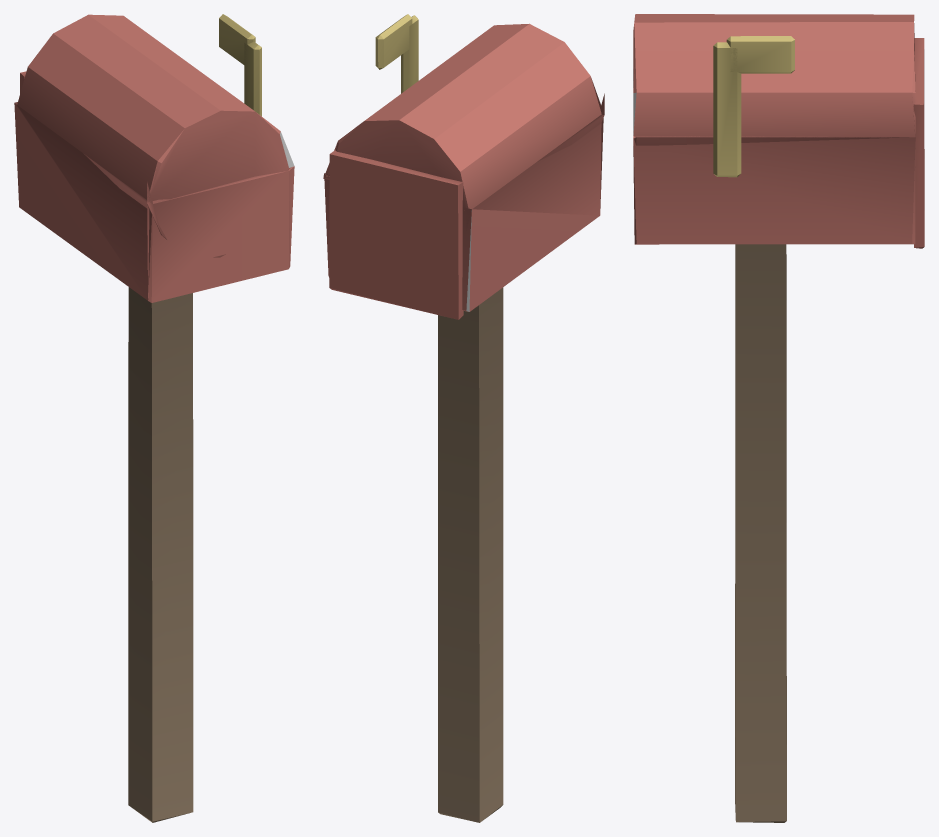
File: mailbox_low.glb
The picture shows the model from 3 angles, left to right: view 1: azimuth 30°, elevation 25°; view 2: azimuth 150°, elevation 25°; view 3: azimuth 270°, elevation 25°; orthographic projection. The views are drawn at different scales.
Bounding box in the file's own units: 0.2827 × 1.34 × 0.4337.
